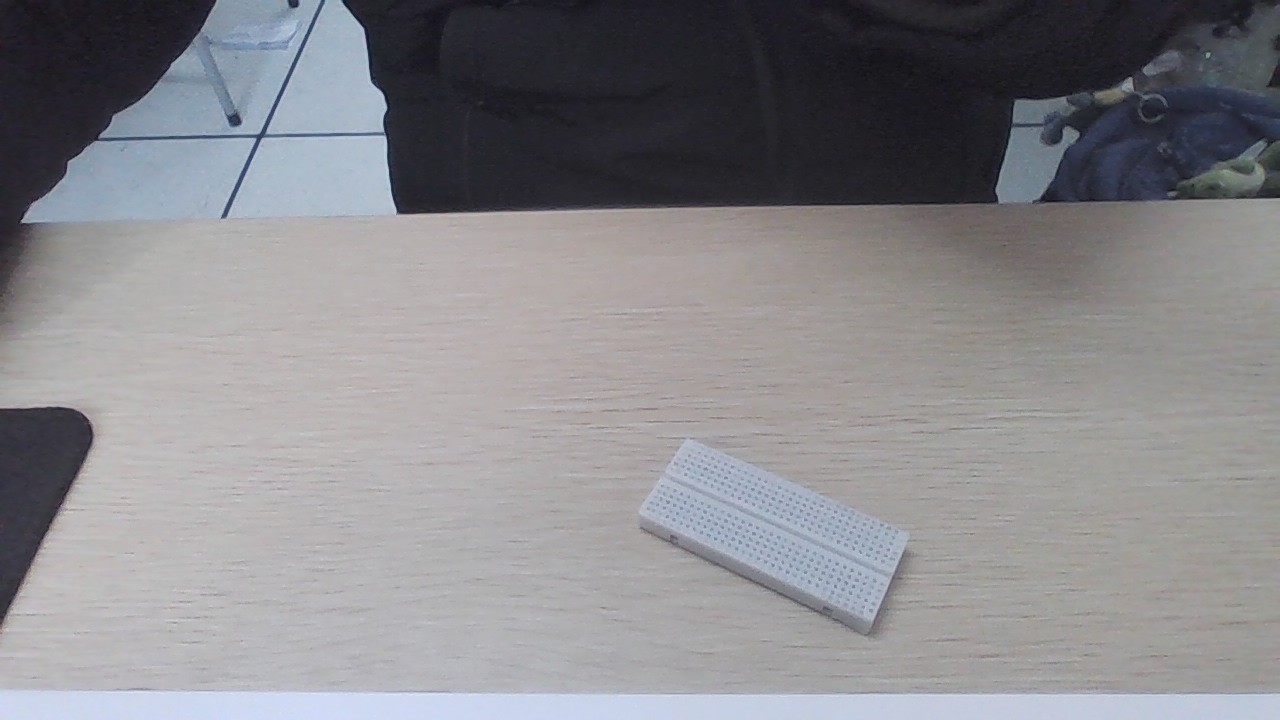KHS-breadboard: (640, 448, 904, 622)
